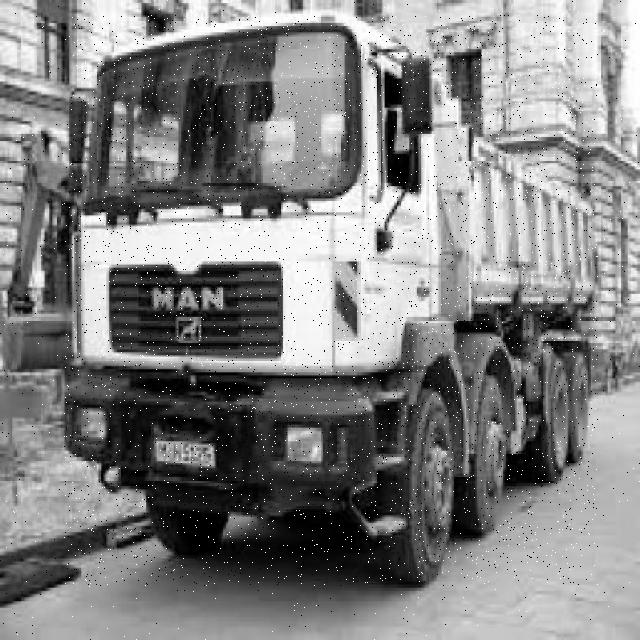Box Truck: (64, 15, 598, 586)
